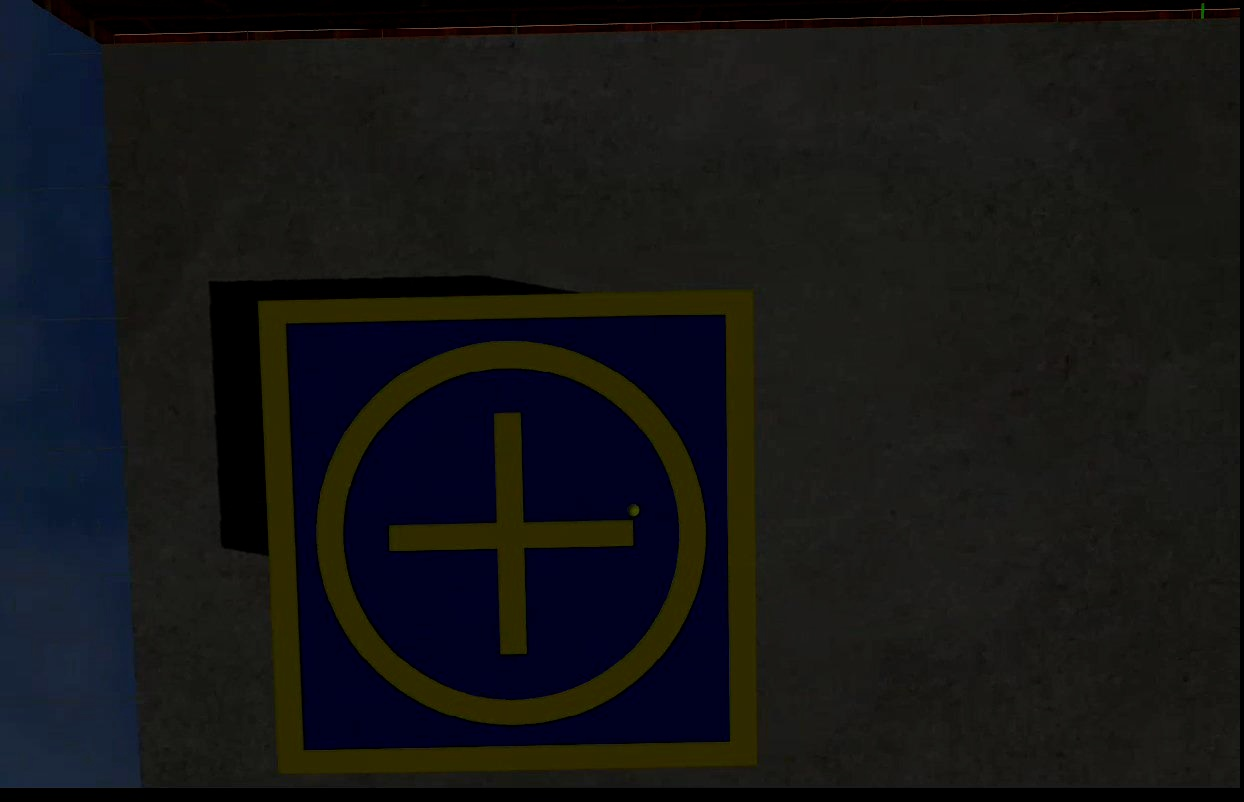small_base: (261, 288, 755, 775)
